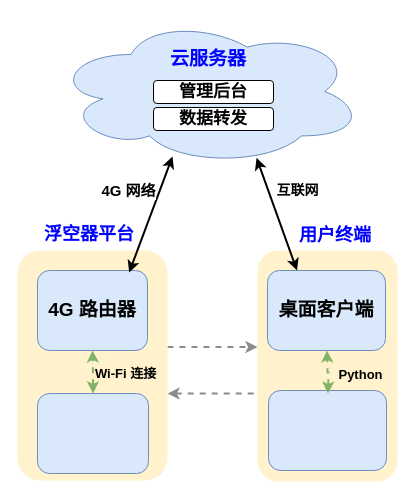
Image size: 414x499. Some labels were removed from this diagram. Here are the shapes that lost their labels. From the top down, the centre of each, then its label:
the point at 92,433: RedEdge 多光谱相机
the point at 327,430: 影像处理 数据分析
